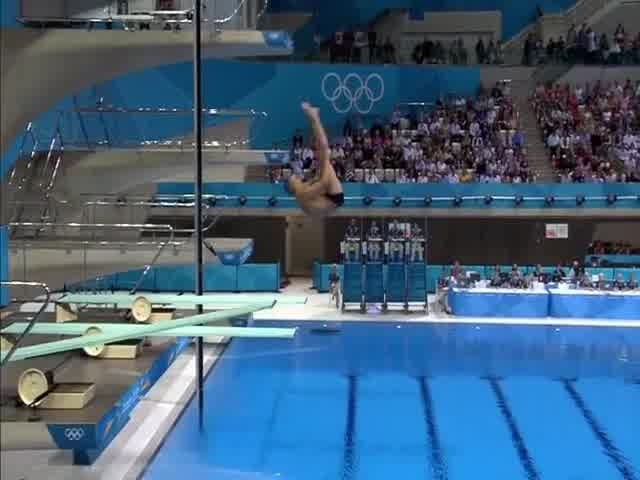diver: (280, 100, 346, 221)
